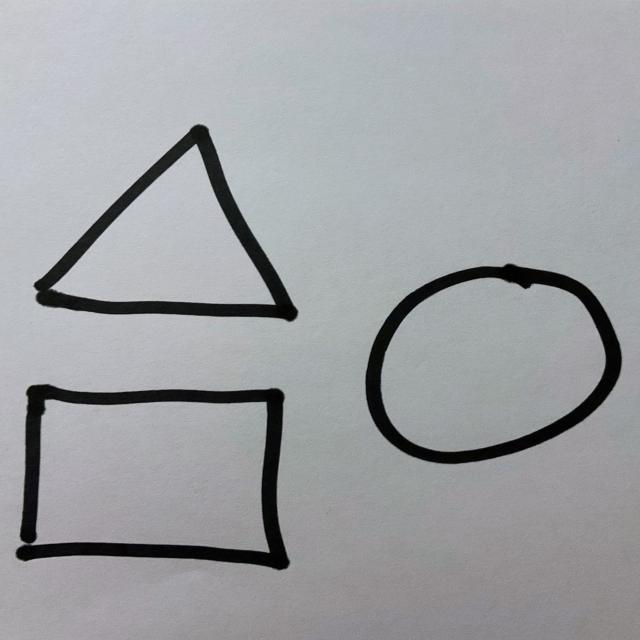Dreieck: (34, 125, 298, 323)
Kreis: (364, 264, 623, 467)
Quadrat: (17, 385, 290, 572)
